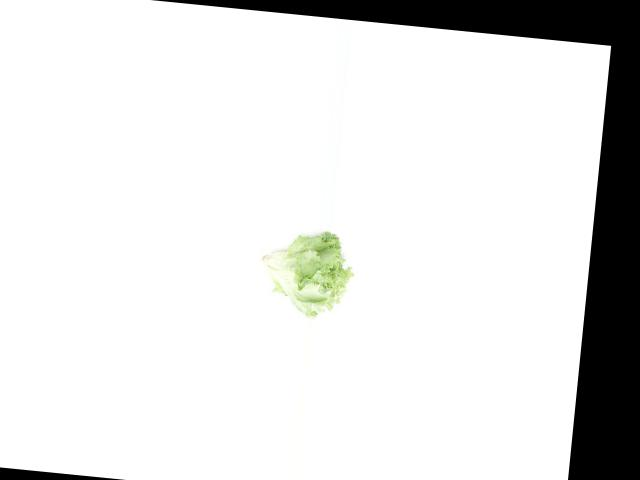lettuce: (255, 223, 355, 324)
